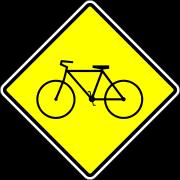Cycle Crossing: (15, 14, 168, 160)
